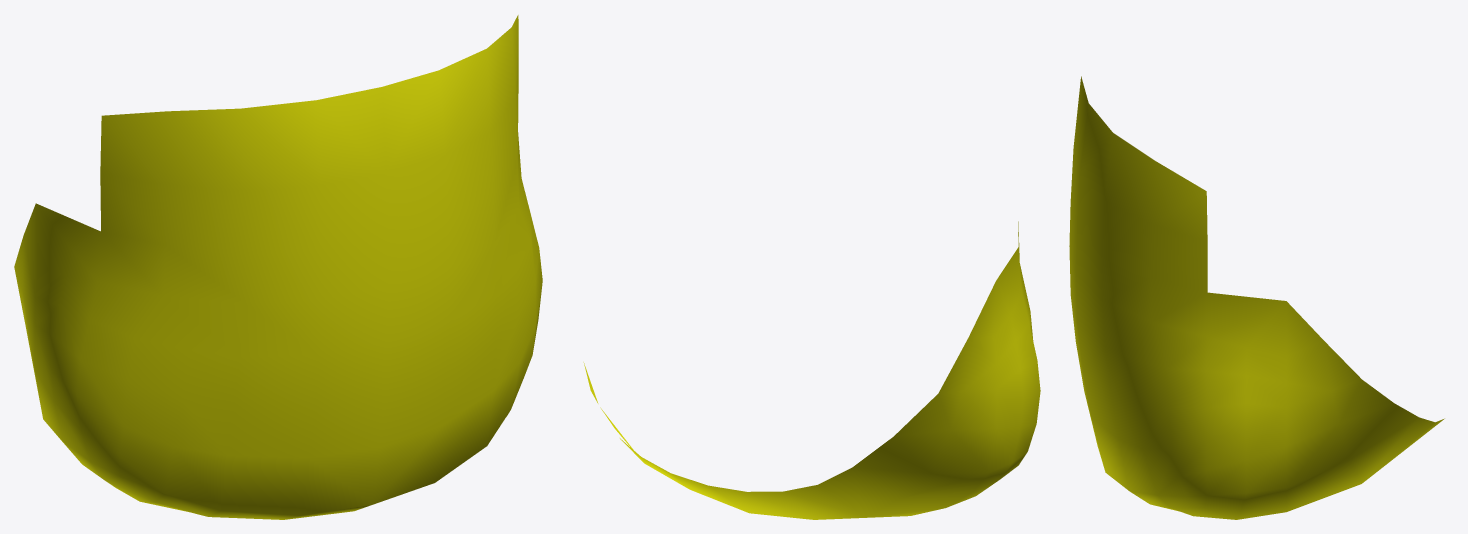
The model's file is Faceline_3.glb.
The picture shows the model from 3 angles, left to right: view 1: azimuth 30°, elevation 25°; view 2: azimuth 150°, elevation 25°; view 3: azimuth 270°, elevation 25°; orthographic projection. The views are drawn at different scales.
Size of the model in its own units: 54.33 by 51.02 by 43.94.
